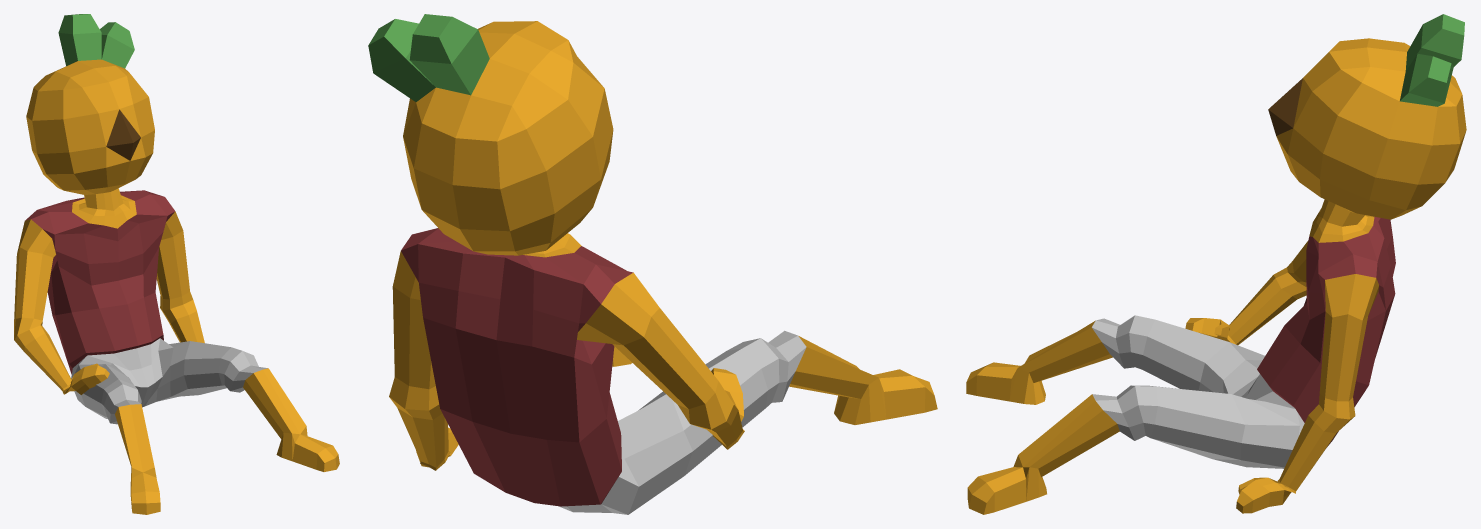
File: Orango_Plush.fbx
3 renders of one model, left to right at view 1: azimuth 30°, elevation 25°; view 2: azimuth 150°, elevation 25°; view 3: azimuth 270°, elevation 25°, orthographic. The views are drawn at different scales.
Visible parts, largest first — view 1: Cube; view 2: Cube; view 3: Cube.
Boxes of the visible parts, bbox=[...] form: Cube: bbox=[14, 14, 339, 514]; Cube: bbox=[368, 14, 937, 514]; Cube: bbox=[966, 14, 1466, 514].
Size of the model in its own units: 85.77 by 130 by 132.
